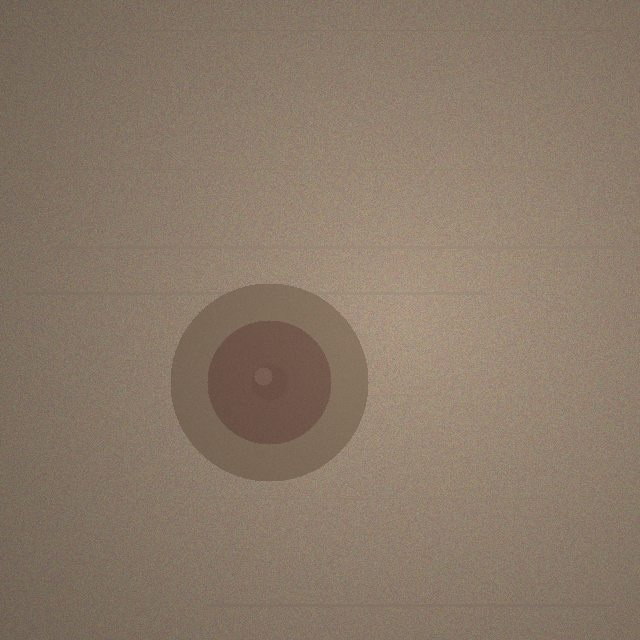good: (170, 283, 368, 481)
